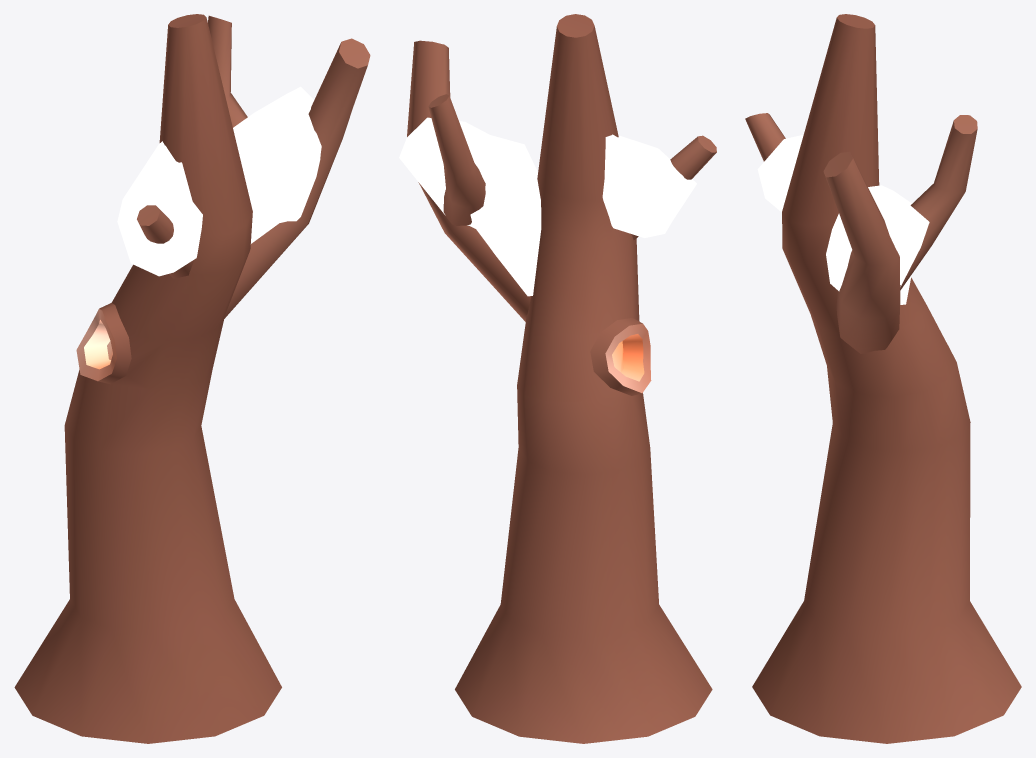
The model's file is tree_001_001.glb.
3 views of the same model, side by side, from view 1: azimuth 30°, elevation 25°; view 2: azimuth 150°, elevation 25°; view 3: azimuth 270°, elevation 25° (orthographic). The views are drawn at different scales.
Visible parts, largest first — view 1: tree_001.001; view 2: tree_001.001; view 3: tree_001.001.
Boxes of the visible parts, left/top/right/bottom form: tree_001.001: left=14, top=14, right=370, bottom=743; tree_001.001: left=399, top=14, right=716, bottom=743; tree_001.001: left=745, top=14, right=1021, bottom=743.
Bounding box in the file's own units: 2.37 × 4.9 × 1.8.
2 materials, 2 textured.
